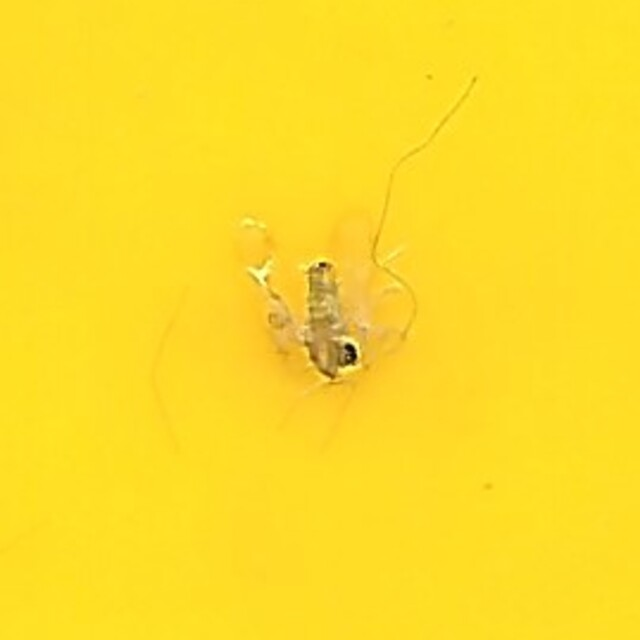Nematocera: (238, 234, 402, 406)
